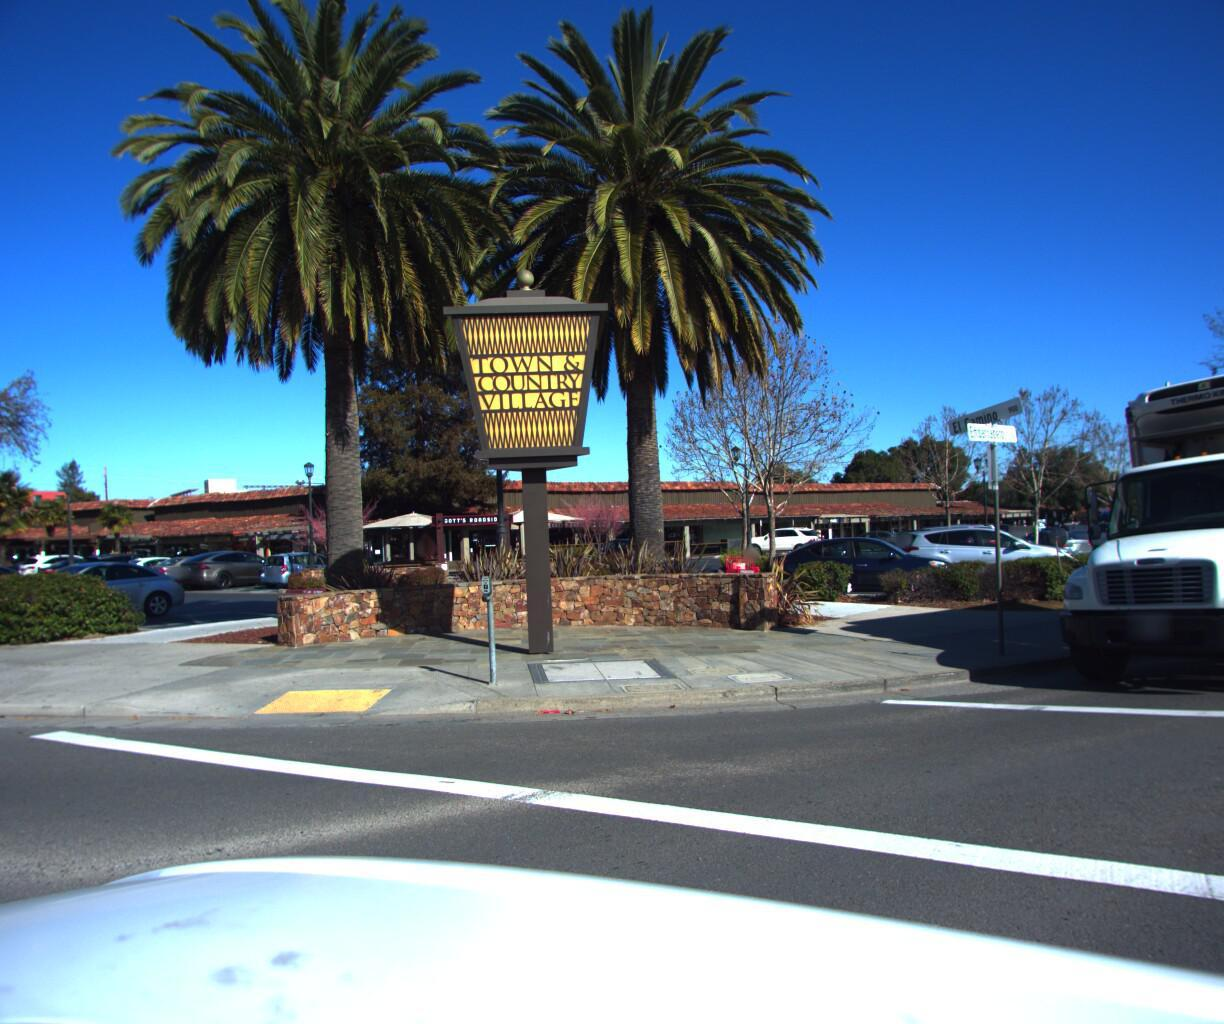car: (0, 550, 196, 625), (893, 513, 1086, 581), (762, 527, 954, 595)
truck: (1021, 315, 1224, 710)
